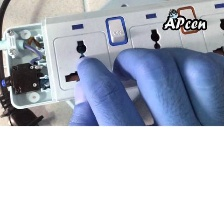three_eye_plug: (0, 0, 224, 112)
